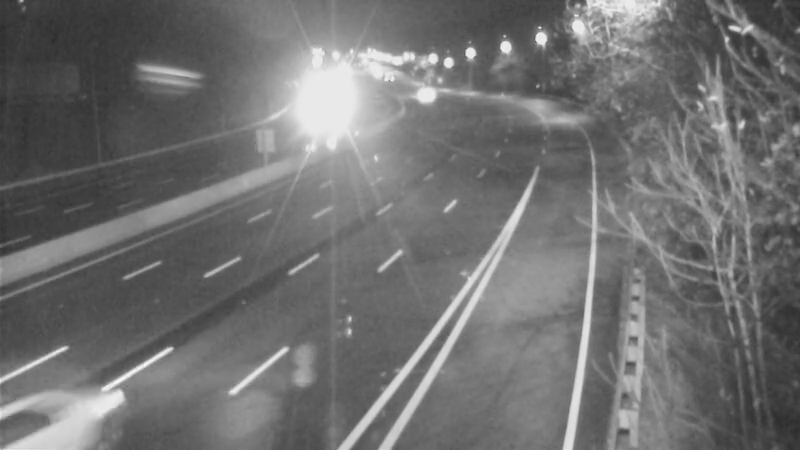vehicle: (396, 70, 446, 120)
